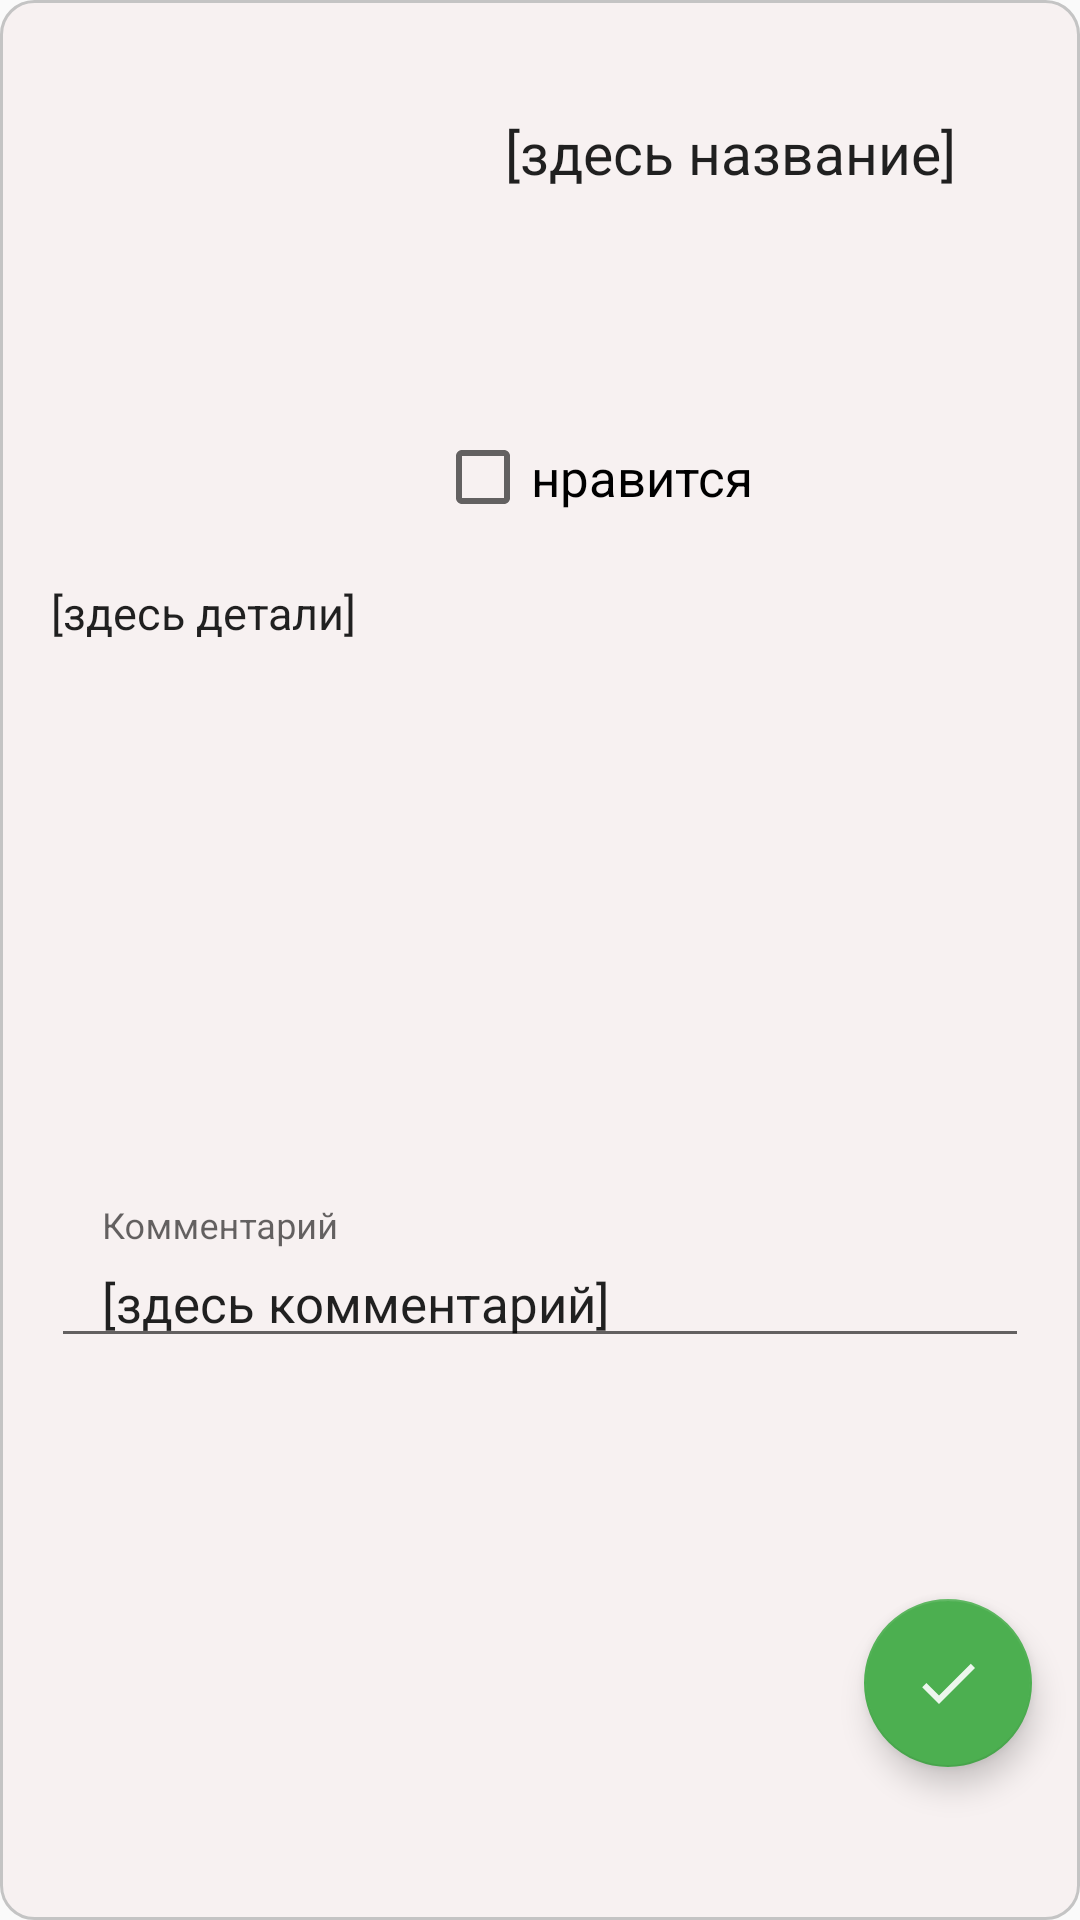

Screen size 1080x1920. Icon name, then its center in pixels as [x,y]:
done: [948,1683]
